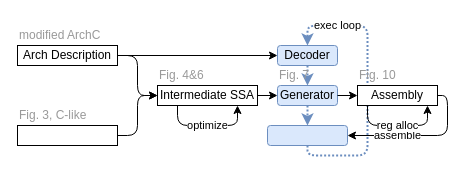
Image size: 473x181. Some labels were removed from this diagram. Here are the shapes that lost their labels. From the top down, the box of each, then its label:
(16, 124, 118, 146): Inst Description
(266, 124, 348, 146): Machine Code
